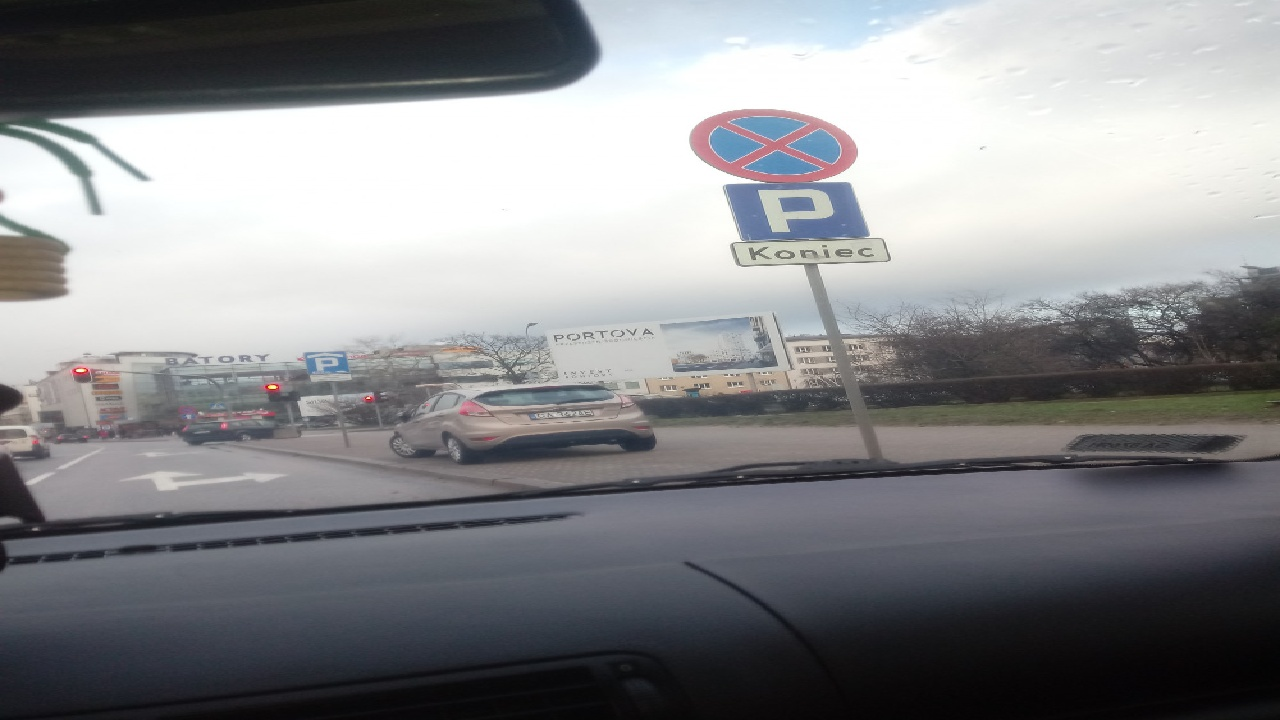B36: (691, 110, 859, 182)
D18: (725, 181, 875, 237), (305, 351, 349, 372)
